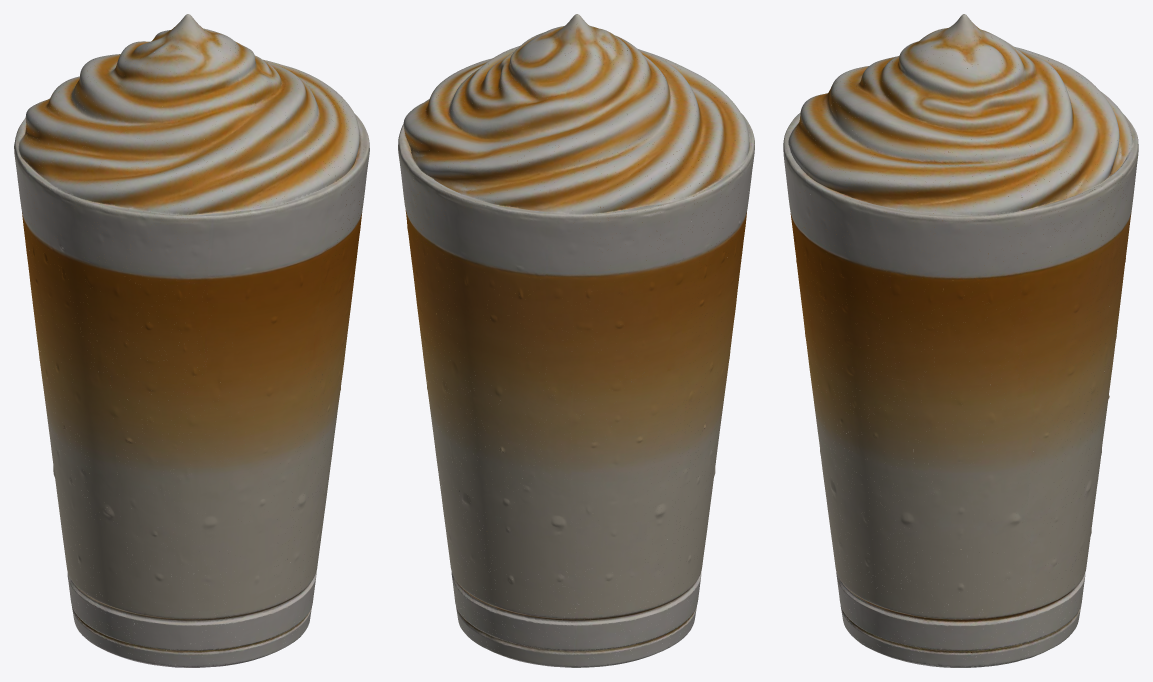
Rendered from caramel_latte_compressed.glb.
The picture shows the model from 3 angles, left to right: view 1: azimuth 30°, elevation 25°; view 2: azimuth 150°, elevation 25°; view 3: azimuth 270°, elevation 25°; orthographic projection.
Parts seen in each view (by area): view 1: tripo_node_e51c566f; view 2: tripo_node_e51c566f; view 3: tripo_node_e51c566f.
Part boxes in pixels (x1,y1,x2,y2): tripo_node_e51c566f: [14, 14, 369, 667]; tripo_node_e51c566f: [398, 14, 754, 667]; tripo_node_e51c566f: [783, 14, 1138, 667].
Size of the model in its own units: 0.532 by 1 by 0.532.
1 material, 1 textured.
